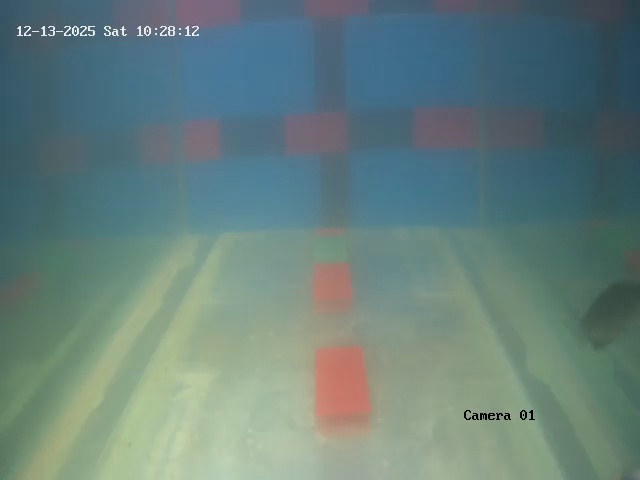fish: (577, 276, 636, 349)
